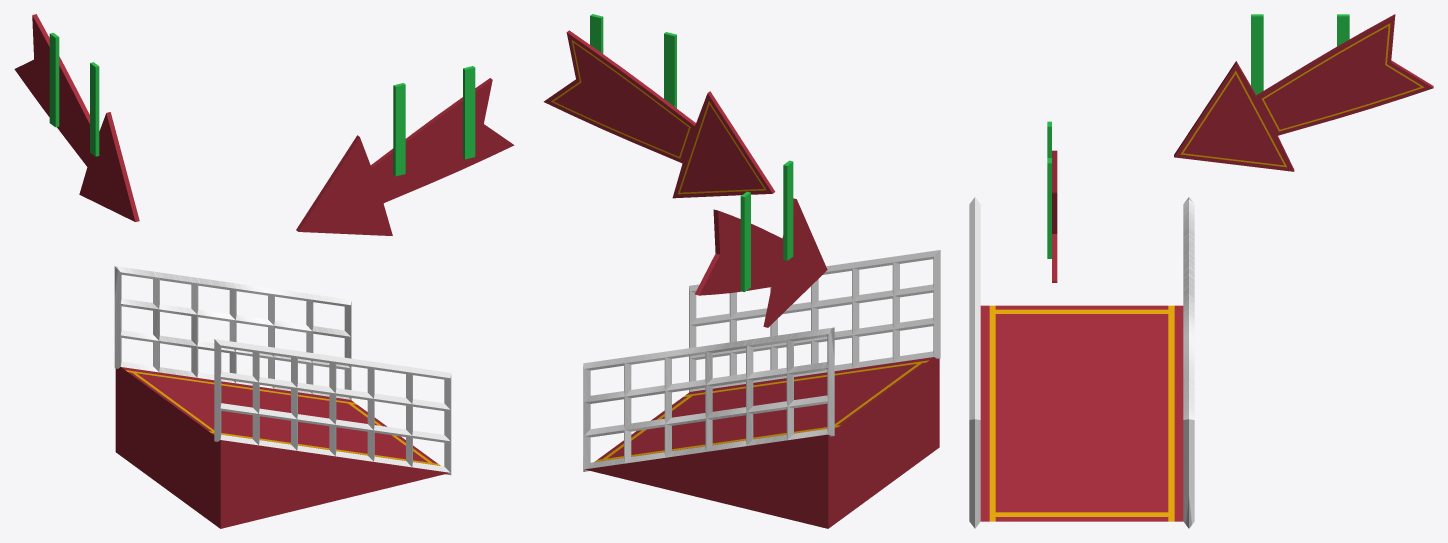
The model's file is SetasComboio.fbx.
3 renders of one model, left to right at view 1: azimuth 30°, elevation 25°; view 2: azimuth 150°, elevation 25°; view 3: azimuth 270°, elevation 25°, orthographic. The views are drawn at different scales.
Visible parts, largest first — view 1: Cube.104, Cube.105, Cube.106, Cube.107; view 2: Cube.104, Cube.105, Cube.107, Cube.106; view 3: Cube.104, Cube.105, Cube.106, Cube.107.
Part boxes in pixels (x1,y1,x2,y2): Cube.104: (115,367,449,528); Cube.105: (14,14,514,235); Cube.106: (214,339,451,475); Cube.107: (114,266,351,399); Cube.104: (584,357,939,528); Cube.105: (543,14,827,327); Cube.107: (583,327,834,471); Cube.106: (689,250,940,392); Cube.104: (980,305,1183,521); Cube.105: (1047,14,1433,282); Cube.106: (969,197,980,528); Cube.107: (1183,197,1194,528).
Size of the model in its own units: 483 by 510 by 539.
5 materials, 1 textured.
